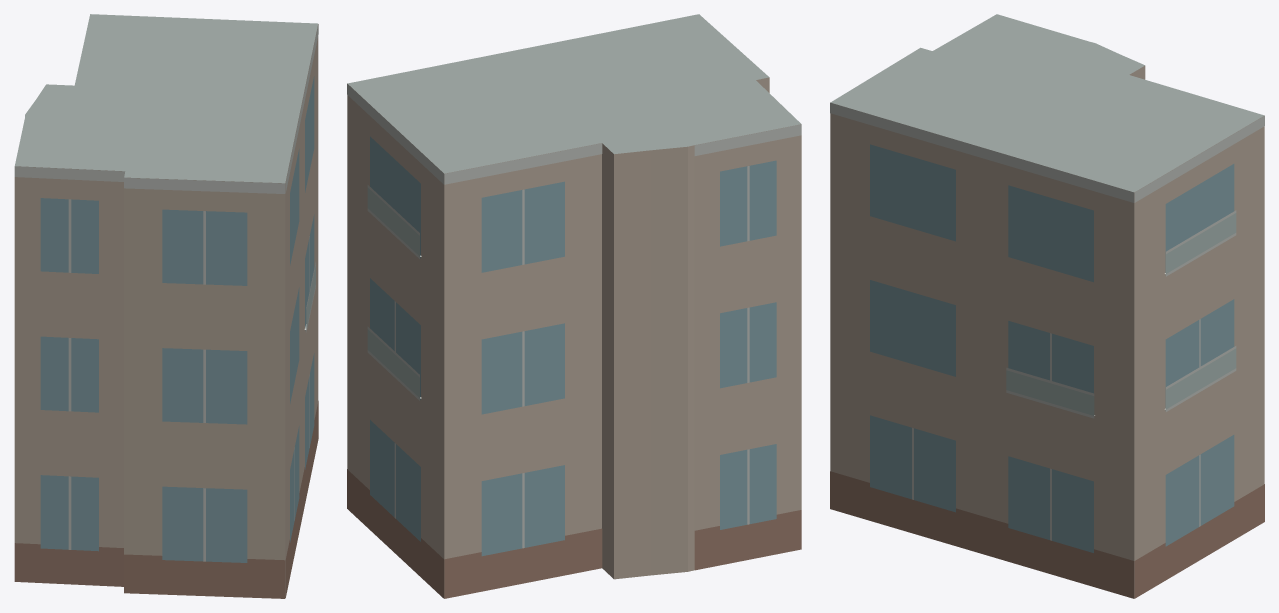
File: survey-upis-32475542.glb
3 renders of one model, left to right at view 1: azimuth 30°, elevation 25°; view 2: azimuth 150°, elevation 25°; view 3: azimuth 270°, elevation 25°, orthographic. The views are drawn at different scales.
Visible parts, largest first — view 1: survey-upis-32475542.tmp; view 2: survey-upis-32475542.tmp; view 3: survey-upis-32475542.tmp.
Part boxes in pixels (x1,y1,x2,y2): survey-upis-32475542.tmp: [14, 14, 318, 598]; survey-upis-32475542.tmp: [347, 14, 801, 598]; survey-upis-32475542.tmp: [830, 14, 1264, 598].
Bounding box in the file's own units: 8.76 × 9.3 × 9.02.
